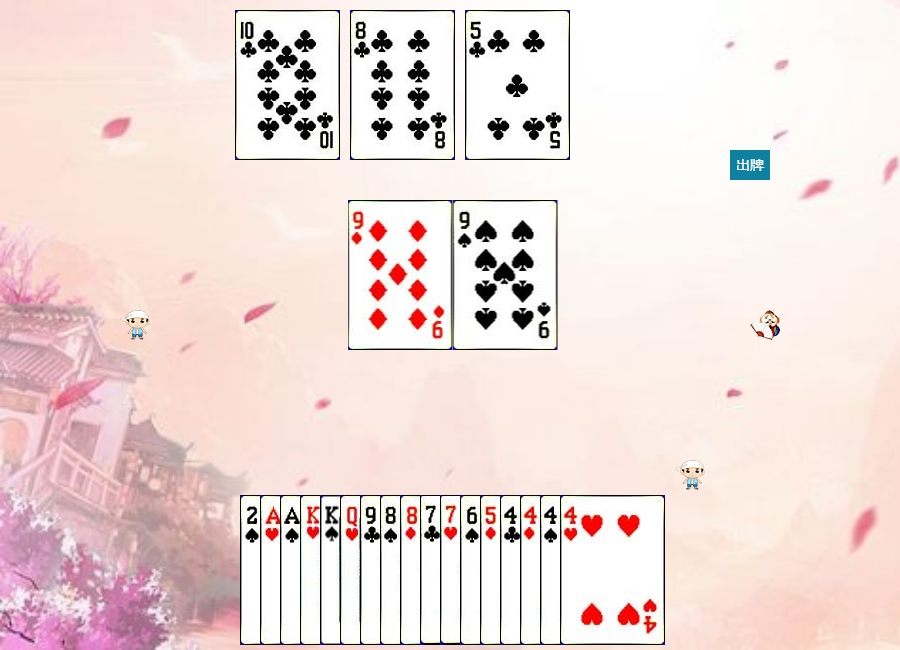10~2: (235, 10, 340, 160)
12~3: (340, 495, 445, 645)
13~3: (300, 495, 405, 645)
13~4: (320, 495, 425, 645)
14~3: (260, 495, 365, 645)
14~4: (280, 495, 385, 645)
15~4: (240, 495, 345, 645)
4~1: (520, 495, 625, 645)
4~2: (500, 495, 605, 645)
4~3: (560, 495, 665, 645)
4~4: (540, 495, 645, 645)
5~1: (480, 495, 585, 645)
5~2: (465, 10, 570, 160)
6~4: (460, 495, 565, 645)
7~2: (420, 495, 525, 645)
7~3: (440, 495, 545, 645)
8~1: (400, 495, 505, 645)
8~2: (350, 10, 455, 160)
8~4: (380, 495, 485, 645)
9~1: (348, 200, 453, 350)
9~2: (360, 495, 465, 645)
9~4: (453, 200, 558, 350)
